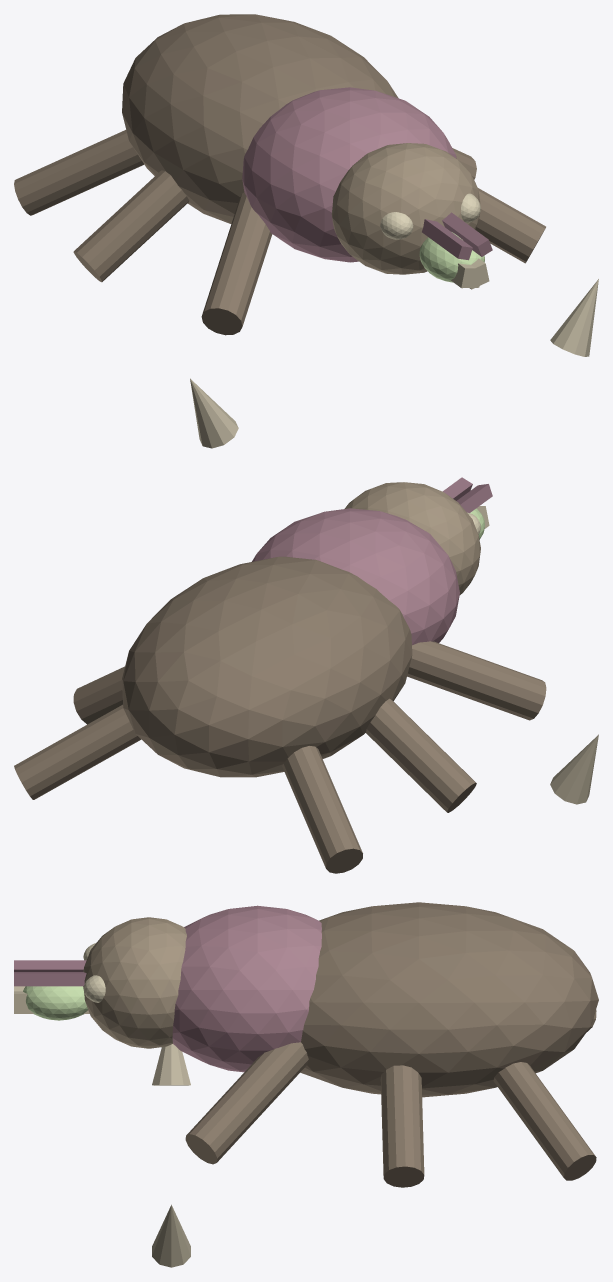
The model's file is zglengo_drone.glb.
3 renders of one model, top to bottom at view 1: azimuth 30°, elevation 25°; view 2: azimuth 150°, elevation 25°; view 3: azimuth 270°, elevation 25°, orthographic. The views are drawn at different scales.
Parts seen in each view (by area): view 1: abdomen, thorax, head, harvest_leg_front_-1, harvest_leg_mid_-1, harvest_leg_rear_-1, harvest_leg_front_1, harvest_claw_1, harvest_claw_-1, harvest_node, sensor_tendril_-1, sensor_tendril_1 (+2 smaller); view 2: abdomen, thorax, harvest_leg_front_-1, head, harvest_leg_mid_-1, harvest_leg_rear_-1, harvest_leg_rear_1, harvest_leg_mid_1, harvest_claw_-1, sensor_tendril_-1; view 3: abdomen, thorax, head, harvest_leg_front_1, harvest_leg_rear_1, harvest_leg_mid_1, harvest_node, harvest_claw_1, harvest_claw_-1, sensor_tendril_1, sensor_tendril_-1, eye_1.
Boxes of the visible parts, x1,y1,x2,y2 form: abdomen: (122, 14, 398, 223); thorax: (242, 87, 456, 262); head: (331, 143, 480, 274); harvest_leg_front_-1: (201, 192, 272, 335); harvest_leg_mid_-1: (73, 170, 189, 282); harvest_leg_rear_-1: (14, 130, 143, 215); harvest_leg_front_1: (475, 188, 545, 263); harvest_claw_1: (550, 279, 598, 356); harvest_claw_-1: (190, 378, 238, 448); harvest_node: (419, 232, 484, 282); sensor_tendril_-1: (422, 219, 472, 260); sensor_tendril_1: (442, 212, 492, 256); abdomen: (122, 556, 412, 777); thorax: (252, 508, 459, 645); harvest_leg_front_-1: (407, 641, 546, 720); head: (344, 482, 480, 594); harvest_leg_mid_-1: (365, 698, 476, 812); harvest_leg_rear_-1: (282, 746, 362, 873); harvest_leg_rear_1: (14, 704, 141, 799); harvest_leg_mid_1: (73, 666, 124, 724); harvest_claw_-1: (550, 734, 598, 804); sensor_tendril_-1: (456, 484, 492, 512); abdomen: (300, 902, 598, 1097); thorax: (172, 905, 321, 1072); head: (83, 917, 186, 1048); harvest_leg_front_1: (185, 1042, 308, 1164); harvest_leg_rear_1: (493, 1062, 596, 1180); harvest_leg_mid_1: (380, 1065, 424, 1187); harvest_node: (23, 986, 87, 1020); harvest_claw_1: (152, 1204, 190, 1267); harvest_claw_-1: (152, 1044, 190, 1085); sensor_tendril_1: (14, 972, 86, 986); sensor_tendril_-1: (14, 960, 86, 971); eye_1: (83, 975, 105, 1002).
Bounding box in the file's own units: 1.22 × 0.7599 × 1.56.
